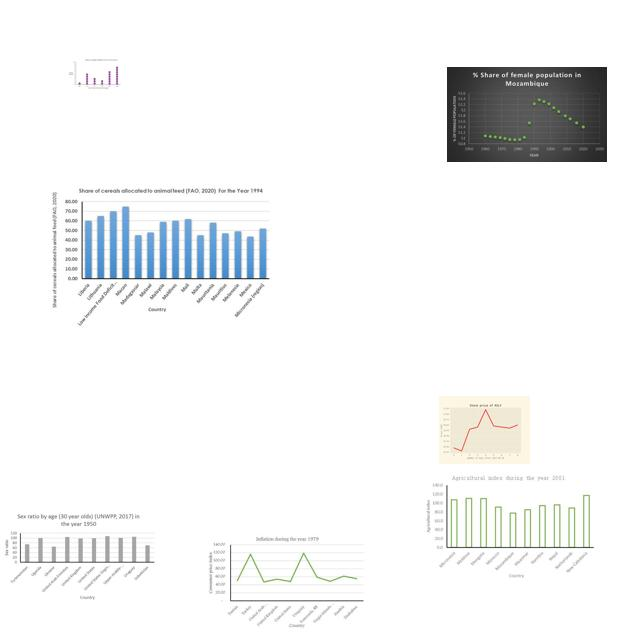Graph: (48, 185, 275, 330), (421, 473, 597, 578), (447, 67, 607, 162), (208, 535, 366, 629), (1, 512, 157, 602), (439, 396, 530, 464), (67, 58, 122, 90)
